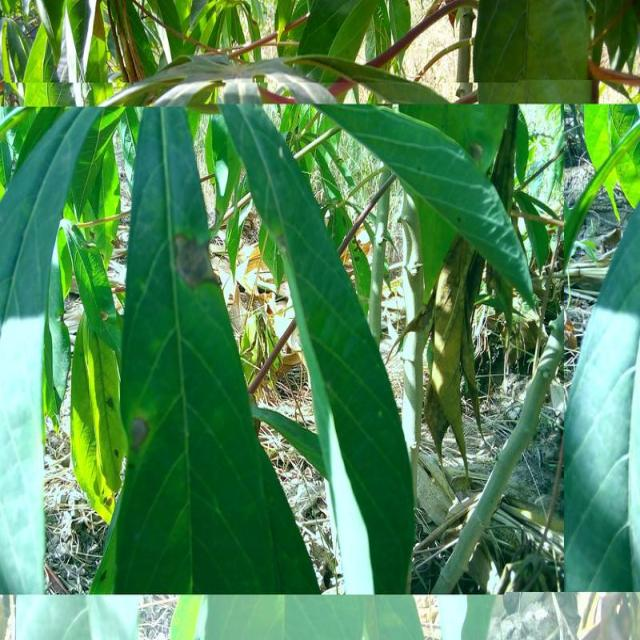cassava leaf: (86, 104, 322, 595), (216, 76, 416, 594), (561, 197, 639, 592)
